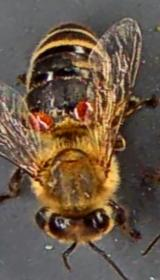varroa_mite: (19, 102, 57, 135), (67, 93, 101, 124)
